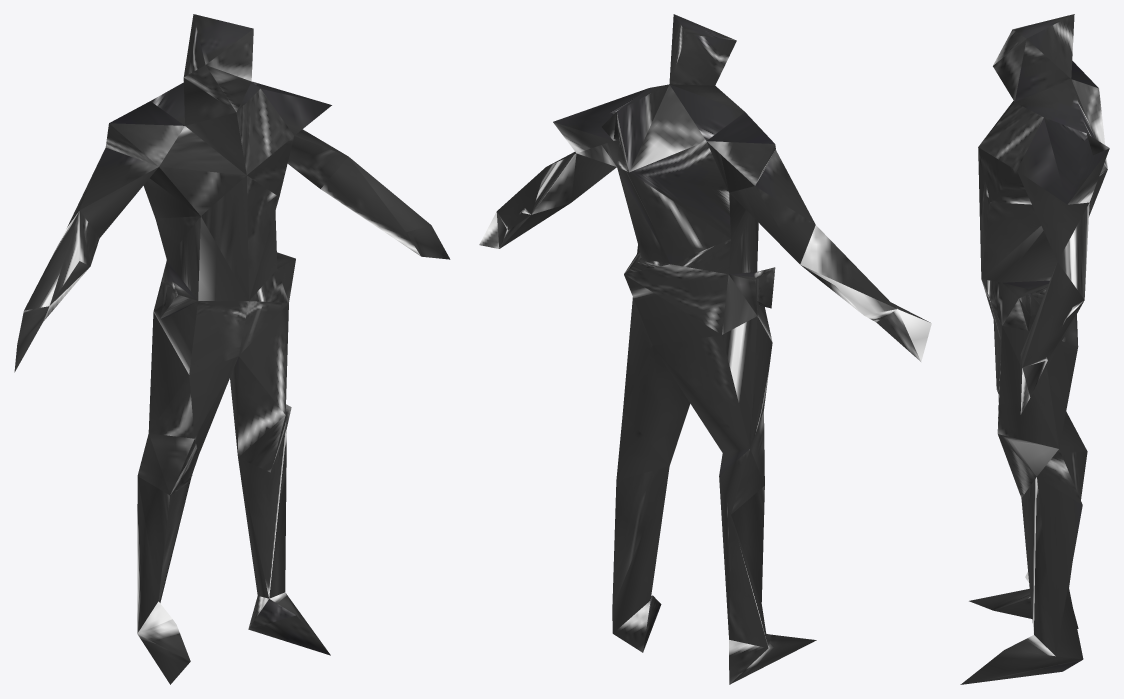
File: midnight_sentinel_lod2.glb
3 views of the same model, side by side, from view 1: azimuth 30°, elevation 25°; view 2: azimuth 150°, elevation 25°; view 3: azimuth 270°, elevation 25° (orthographic).
Parts seen in each view (by area): view 1: Mesh_0; view 2: Mesh_0; view 3: Mesh_0.
Part boxes in pixels (bbox=[...]): Mesh_0: bbox=[14, 14, 450, 684]; Mesh_0: bbox=[479, 14, 931, 684]; Mesh_0: bbox=[960, 14, 1109, 684].
Bounding box in the file's own units: 1.38 × 1.89 × 0.4019.
Materials: 1 (1 with a texture image).
